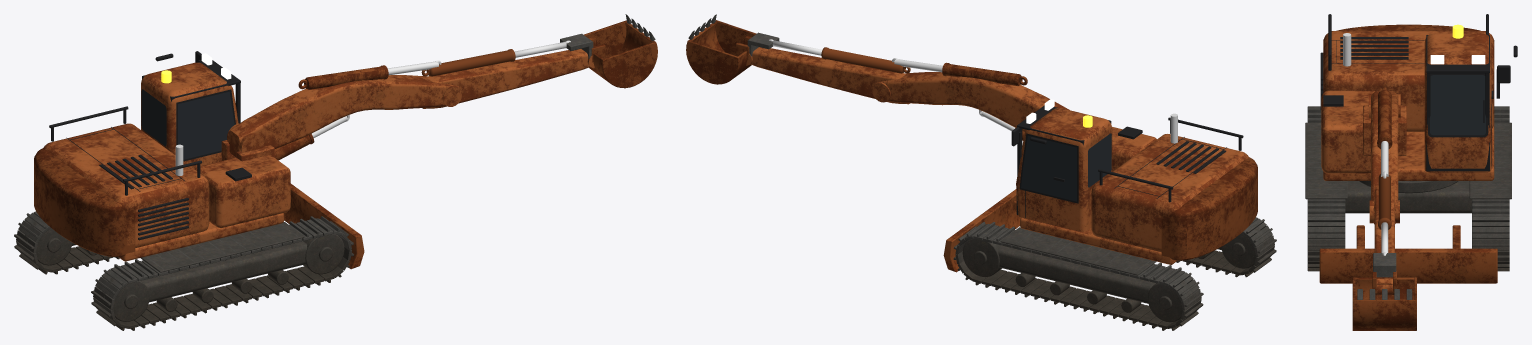
Rendered from excavator_rusty.glb.
The picture shows the model from 3 angles, left to right: view 1: azimuth 30°, elevation 25°; view 2: azimuth 150°, elevation 25°; view 3: azimuth 270°, elevation 25°; orthographic projection. The views are drawn at different scales.
Visible parts, largest first — view 1: HouseBody, Undercarriage, Tracks, BoomBody, Counterweight, CabGlass, StickBody, BucketBody, Cab, HouseDetails, Blade, BoomRams (+4 smaller); view 2: HouseBody, Undercarriage, Tracks, Counterweight, BoomBody, Cab, CabGlass, StickBody, BucketBody, HouseDetails, Blade, BoomRams (+4 smaller); view 3: HouseBody, Undercarriage, Blade, Tracks, Cab, CabGlass, BucketBody, BoomBody, HouseDetails, Interior, StickBody, BoomMount (+12 smaller).
Part boxes in pixels (x1,y1,x2,y2): HouseBody: [43, 123, 290, 261]; Undercarriage: [24, 221, 344, 321]; Tracks: [14, 211, 353, 330]; BoomBody: [227, 75, 461, 156]; Counterweight: [34, 148, 135, 256]; CabGlass: [141, 89, 234, 159]; StickBody: [422, 49, 594, 108]; BucketBody: [584, 20, 657, 88]; Cab: [141, 62, 238, 168]; HouseDetails: [49, 106, 251, 240]; Blade: [284, 183, 364, 269]; BoomRams: [274, 65, 388, 160]; HouseBody: [1020, 127, 1248, 264]; Undercarriage: [962, 227, 1267, 322]; Tracks: [953, 217, 1276, 330]; Counterweight: [1161, 157, 1257, 260]; BoomBody: [872, 72, 1069, 131]; Cab: [1016, 108, 1112, 231]; CabGlass: [1021, 133, 1111, 201]; StickBody: [739, 47, 909, 104]; BucketBody: [686, 20, 756, 84]; HouseDetails: [1098, 117, 1243, 202]; Blade: [943, 189, 1020, 272]; BoomRams: [942, 62, 1027, 140]; HouseBody: [1321, 31, 1494, 180]; Undercarriage: [1305, 112, 1511, 213]; Blade: [1319, 225, 1497, 283]; Tracks: [1307, 106, 1509, 271]; Cab: [1424, 33, 1491, 172]; CabGlass: [1430, 75, 1485, 135]; BucketBody: [1352, 271, 1416, 330]; BoomBody: [1369, 91, 1400, 224]; HouseDetails: [1320, 14, 1488, 109]; Interior: [1426, 35, 1489, 171]; StickBody: [1374, 186, 1394, 296]; BoomMount: [1363, 105, 1406, 155].
Size of the model in its own units: 10.35 by 3.12 by 3.1.
10 materials, 3 textured.
